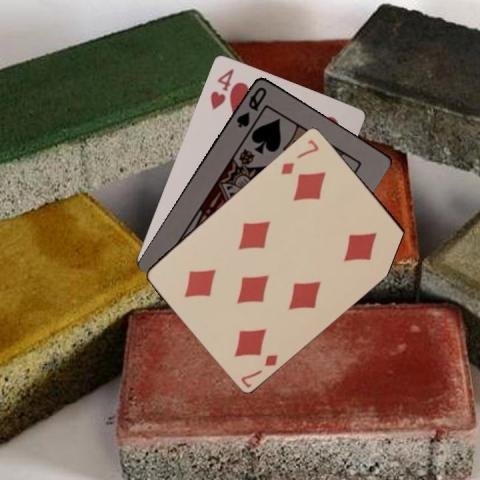4h: (207, 64, 235, 110)
7d: (277, 137, 320, 176), (237, 350, 280, 388)
Qs: (233, 83, 268, 129)
